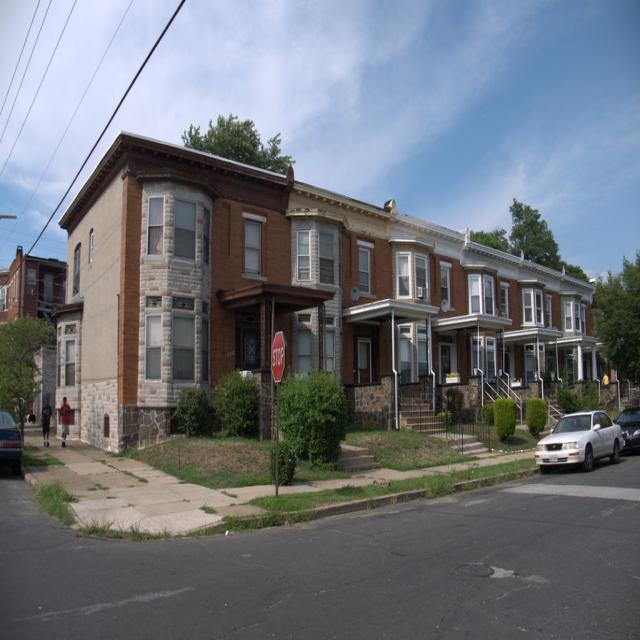car: (535, 407, 624, 469)
